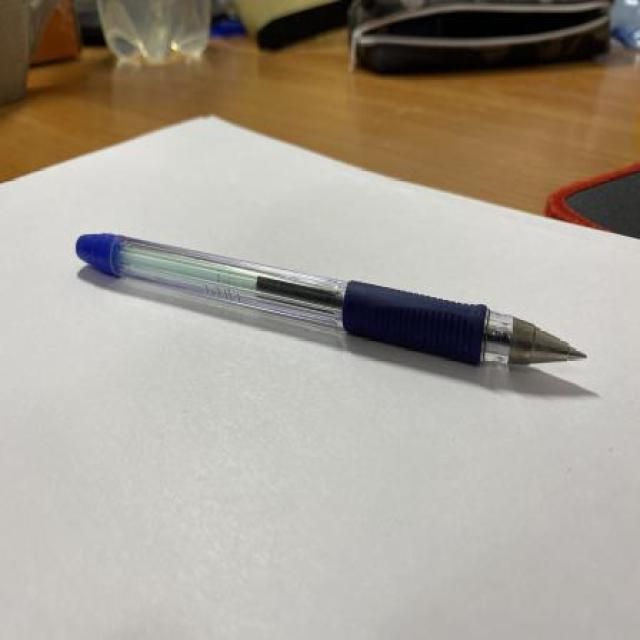pen: (75, 231, 589, 374)
